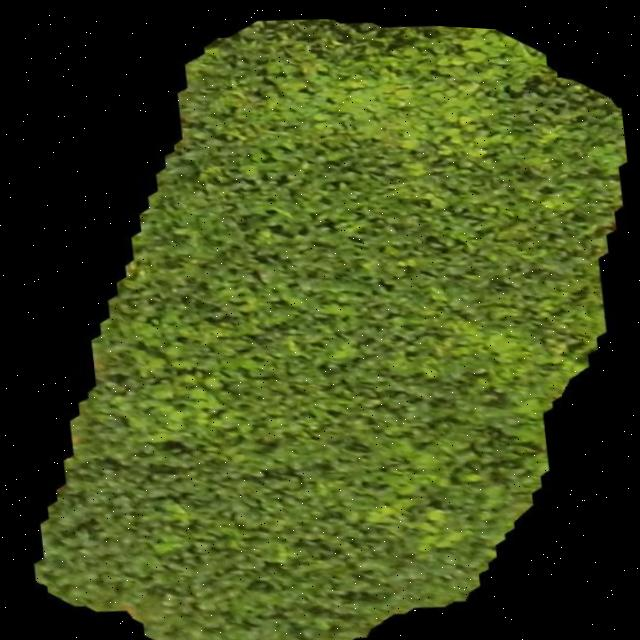Soybean: (31, 14, 626, 640)
